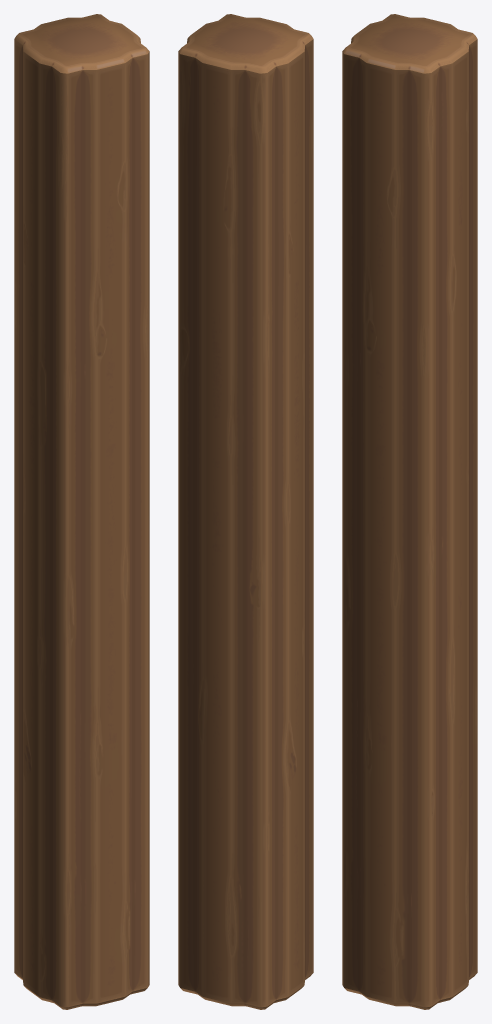
Rendered from ARC0510090.fbx.
3 views of the same model, side by side, from view 1: azimuth 30°, elevation 25°; view 2: azimuth 150°, elevation 25°; view 3: azimuth 330°, elevation 25° (orthographic).
Parts seen in each view (by area): view 1: smARC0510090; view 2: smARC0510090; view 3: smARC0510090.
Part boxes in pixels (bbox=[...]): smARC0510090: bbox=[14, 14, 149, 1009]; smARC0510090: bbox=[178, 14, 313, 1009]; smARC0510090: bbox=[342, 14, 477, 1009].
Size of the model in its own units: 33.68 by 300 by 33.68.
Materials: 1 (1 with a texture image).
